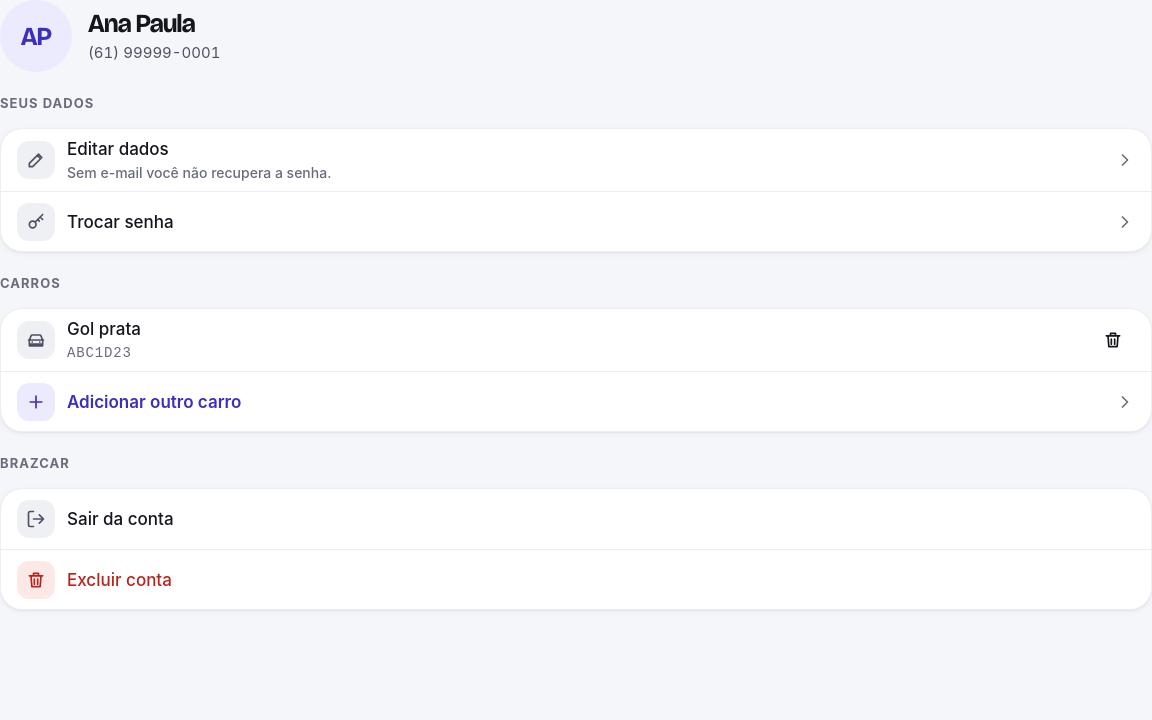
Test case: AccountPanel, as the owner uses it › shows the phone but never lets it be typed over
This screenshot has width=1152, height=720.
Click the button "Editar dados Sem e-mail você não recupera a senha." at (36, 160), box [1,129,1151,191]
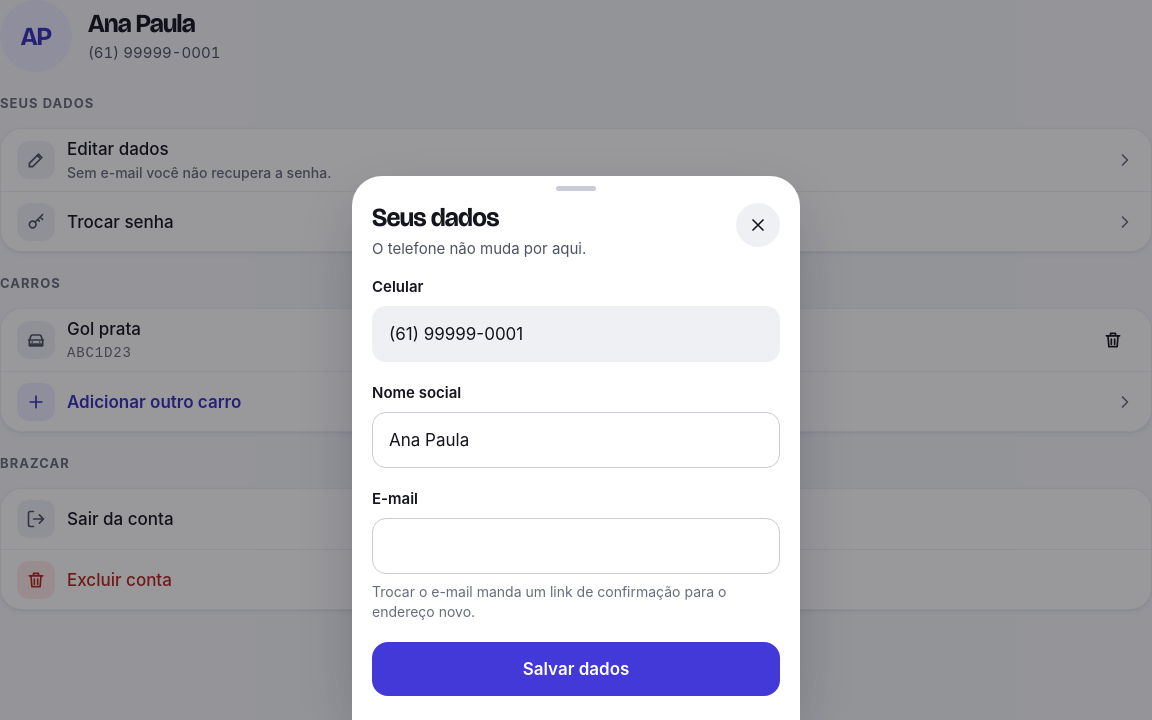
Expected: the field labelled "Celular" holds "(61) 99999-0001", [389,308,763,360]
